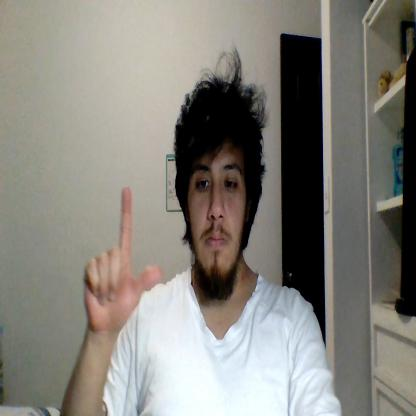L: (83, 187, 164, 332)
